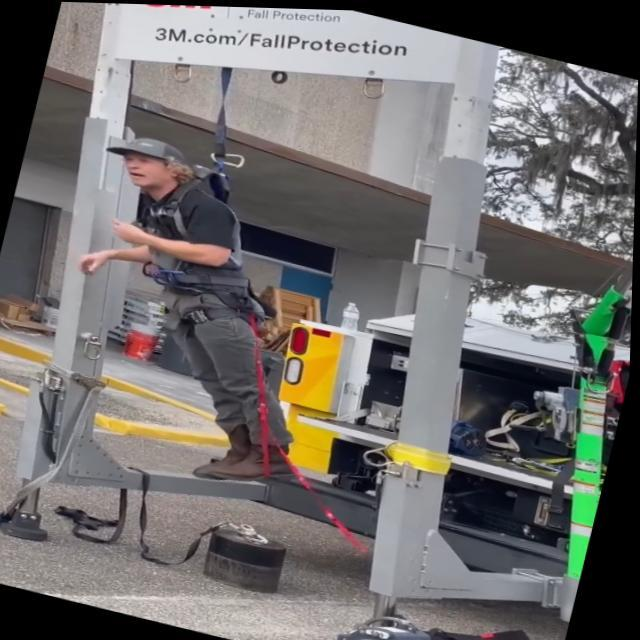belt: (100, 136, 318, 354)
